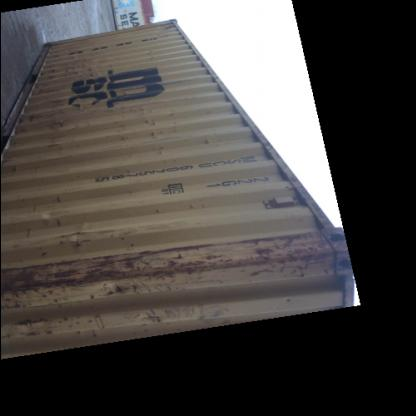Damage: (21, 222, 336, 310), (23, 104, 76, 155), (11, 314, 107, 342), (36, 49, 98, 85), (143, 98, 170, 172), (191, 134, 215, 154)
